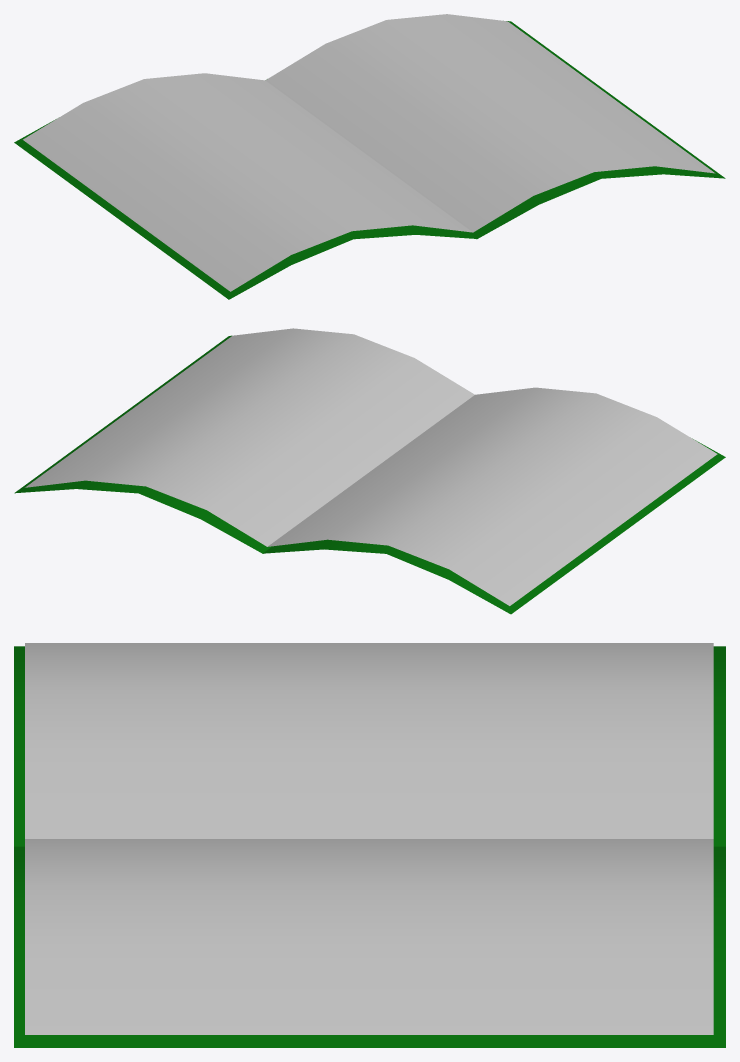
The model's file is note.FBX.
The picture shows the model from 3 angles, top to bottom: view 1: azimuth 30°, elevation 25°; view 2: azimuth 150°, elevation 25°; view 3: azimuth 270°, elevation 25°; orthographic projection. The views are drawn at different scales.
Visible parts, largest first — view 1: Plane001, Plane002, Plane003, Plane004; view 2: Plane001, Plane002, Plane003, Plane004; view 3: Plane001, Plane002, Plane004, Plane003.
Boxes of the visible parts, left/top/right/bottom form: Plane001: left=23, top=73, right=472, bottom=291; Plane002: left=265, top=14, right=715, bottom=232; Plane003: left=14, top=119, right=476, bottom=299; Plane004: left=468, top=21, right=725, bottom=239; Plane001: left=267, top=387, right=717, bottom=605; Plane002: left=25, top=328, right=474, bottom=546; Plane003: left=263, top=438, right=725, bottom=614; Plane004: left=14, top=335, right=271, bottom=553; Plane001: left=25, top=643, right=713, bottom=838; Plane002: left=25, top=839, right=713, bottom=1034; Plane004: left=14, top=846, right=725, bottom=1047; Plane003: left=14, top=646, right=725, bottom=846.
Size of the model in its own units: 145 by 9.86 by 109.
